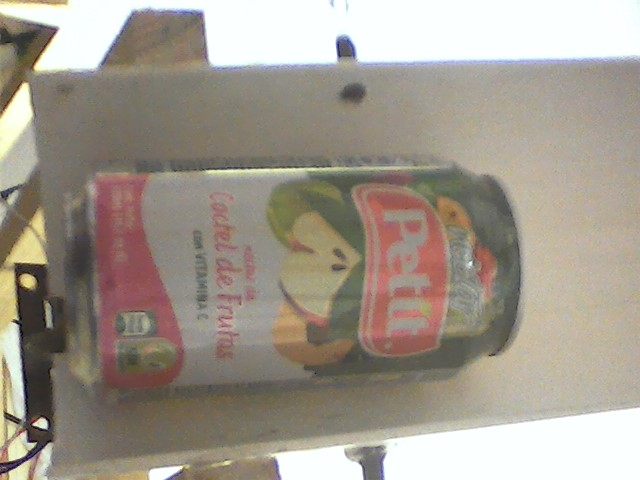lata: (53, 140, 544, 416)
